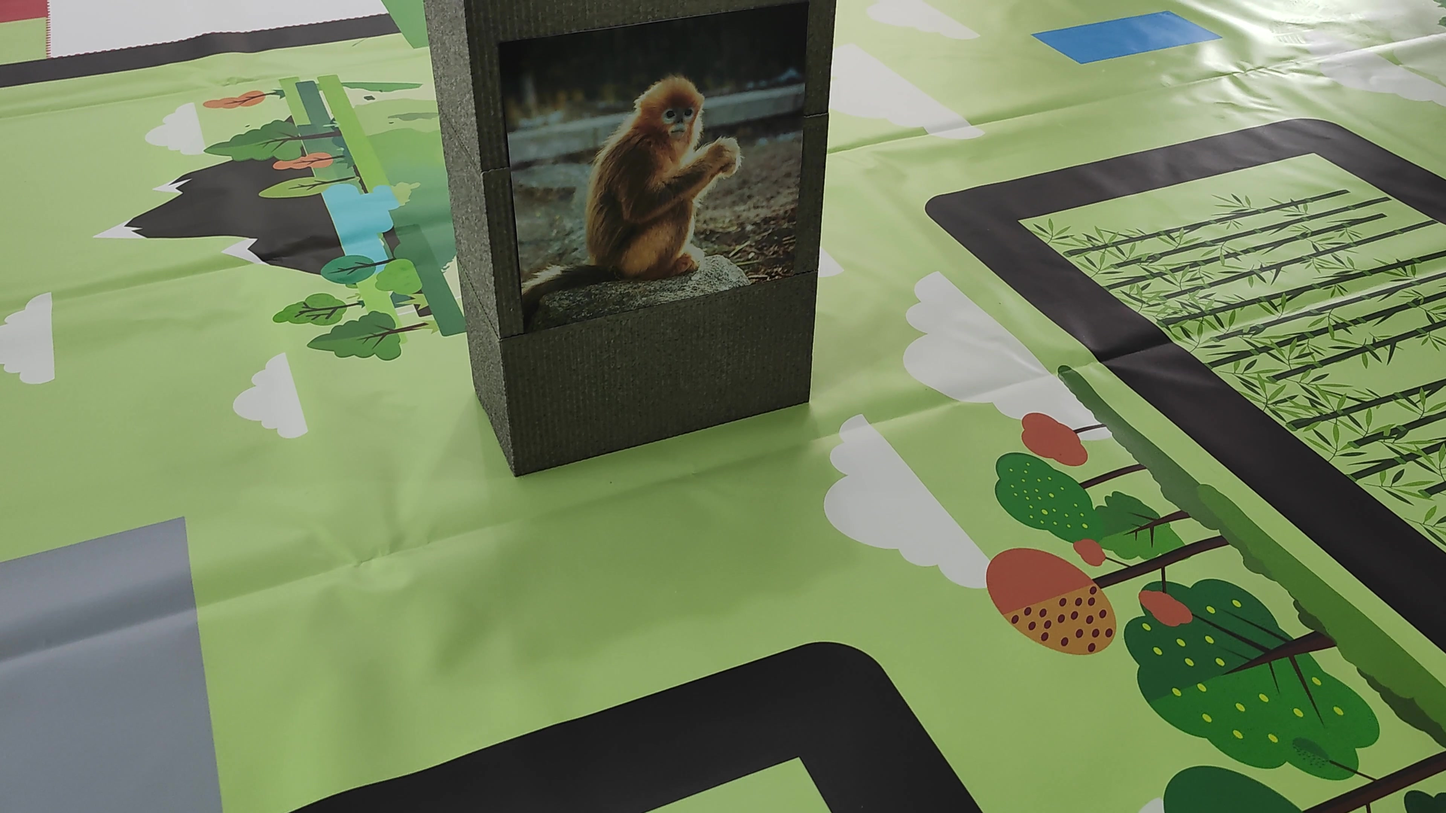monkey: (501, 53, 763, 308)
